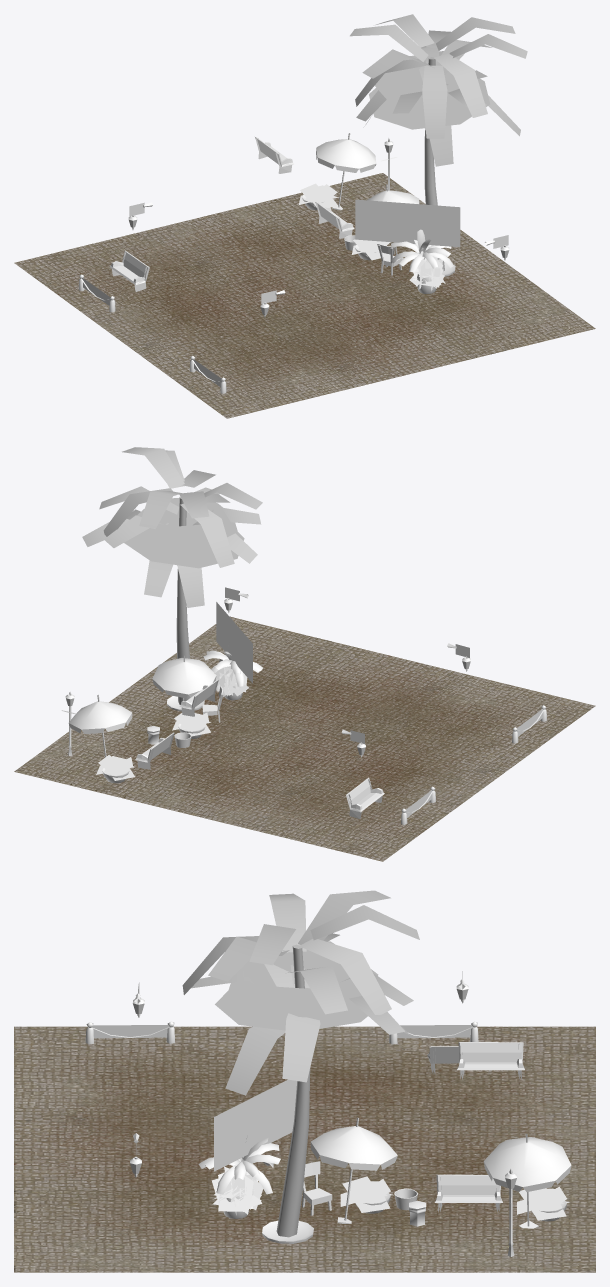
Rendered from propsonly_2.gltf.
3 views of the same model, one above another, from view 1: azimuth 30°, elevation 25°; view 2: azimuth 150°, elevation 25°; view 3: azimuth 270°, elevation 25° (orthographic). The views are drawn at different scales.
Visible parts, largest first — view 1: ground.010, prop_tree1.002, prop_lights1.001, prop_sunshade1.002, prop_treepot_tree1.001, prop_bench1.005, prop_treepot_bush1.001, prop_pot_flower1.002, prop_bench1.006, prop_bench1.004; view 2: ground.010, prop_tree1.002, prop_sunshade1.003, prop_sunshade1.002, prop_lights1.001, prop_bench1.005, prop_pot_flower1.002, prop_treepot_tree1.001, prop_treepot_bush1.001, prop_pot_flower1.003, prop_bench1.004, prop_bench1.006; view 3: ground.010, prop_tree1.002, prop_lights1.001, prop_sunshade1.002, prop_sunshade1.003, prop_bench1.006, prop_bench1.004, prop_treepot_tree1.001, prop_treepot_bush1.001, prop_chain_fence1.002, prop_pot_flower1.003, prop_pot_flower1.002 (+4 smaller).
Part boxes in pixels (left/top/right/bottom): ground.010: left=14, top=173, right=595, bottom=418; prop_tree1.002: left=350, top=14, right=527, bottom=271; prop_lights1.001: left=355, top=199, right=460, bottom=247; prop_sunshade1.002: left=316, top=133, right=376, bottom=210; prop_treepot_tree1.001: left=391, top=229, right=453, bottom=272; prop_bench1.005: left=110, top=250, right=149, bottom=291; prop_treepot_bush1.001: left=409, top=256, right=445, bottom=290; prop_pot_flower1.002: left=299, top=183, right=338, bottom=207; prop_bench1.006: left=255, top=137, right=294, bottom=173; prop_bench1.004: left=315, top=201, right=354, bottom=238; ground.010: left=14, top=616, right=595, bottom=861; prop_tree1.002: left=82, top=447, right=262, bottom=704; prop_sunshade1.003: left=152, top=655, right=216, bottom=700; prop_sunshade1.002: left=68, top=695, right=132, bottom=757; prop_lights1.001: left=216, top=602, right=252, bottom=683; prop_bench1.005: left=346, top=777, right=384, bottom=818; prop_pot_flower1.002: left=96, top=755, right=134, bottom=780; prop_treepot_tree1.001: left=203, top=642, right=262, bottom=686; prop_treepot_bush1.001: left=215, top=666, right=248, bottom=696; prop_pot_flower1.003: left=172, top=712, right=211, bottom=736; prop_bench1.004: left=135, top=732, right=174, bottom=769; prop_bench1.006: left=179, top=679, right=218, bottom=716; ground.010: left=14, top=1026, right=595, bottom=1272; prop_tree1.002: left=182, top=890, right=419, bottom=1237; prop_lights1.001: left=214, top=1079, right=297, bottom=1171; prop_sunshade1.002: left=483, top=1134, right=571, bottom=1228; prop_sunshade1.003: left=310, top=1117, right=397, bottom=1223; prop_bench1.006: left=457, top=1042, right=524, bottom=1079; prop_bench1.004: left=434, top=1174, right=502, bottom=1212; prop_treepot_tree1.001: left=198, top=1138, right=280, bottom=1194; prop_treepot_bush1.001: left=211, top=1166, right=263, bottom=1214; prop_chain_fence1.002: left=85, top=1021, right=175, bottom=1044; prop_pot_flower1.003: left=340, top=1176, right=393, bottom=1212; prop_pot_flower1.002: left=517, top=1186, right=569, bottom=1220.
Size of what is drawn, in the model's own units: 3.5 by 2.16 by 3.3.
